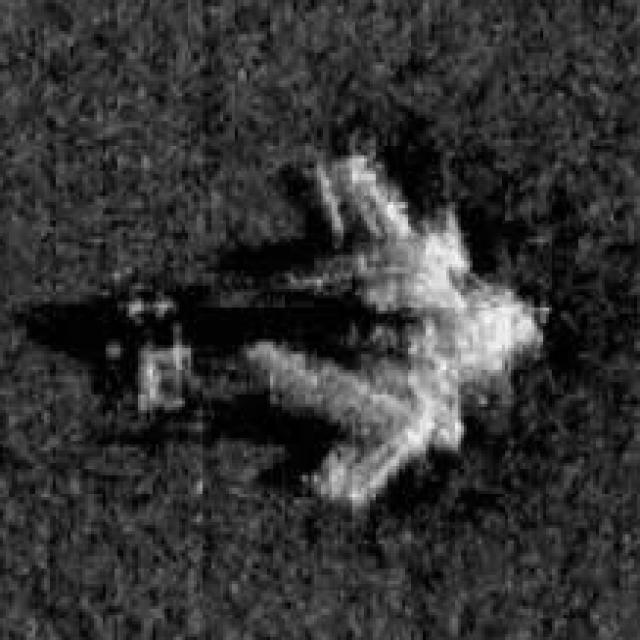plane: (144, 143, 543, 513)
